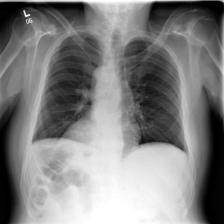normal: (29, 28, 193, 161)
